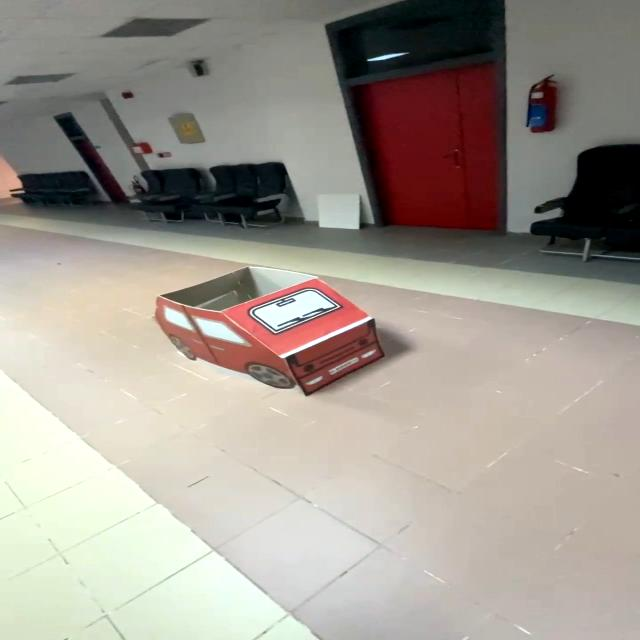red_car: (141, 250, 420, 422)
